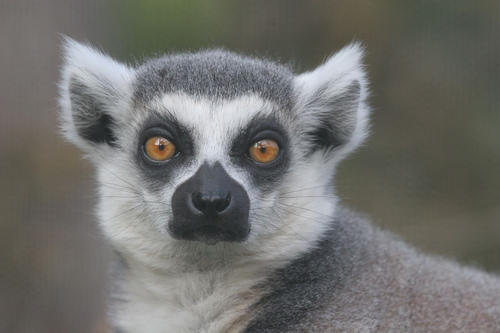cat: (52, 29, 499, 332)
